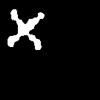single_crochet: (8, 10, 43, 49)
